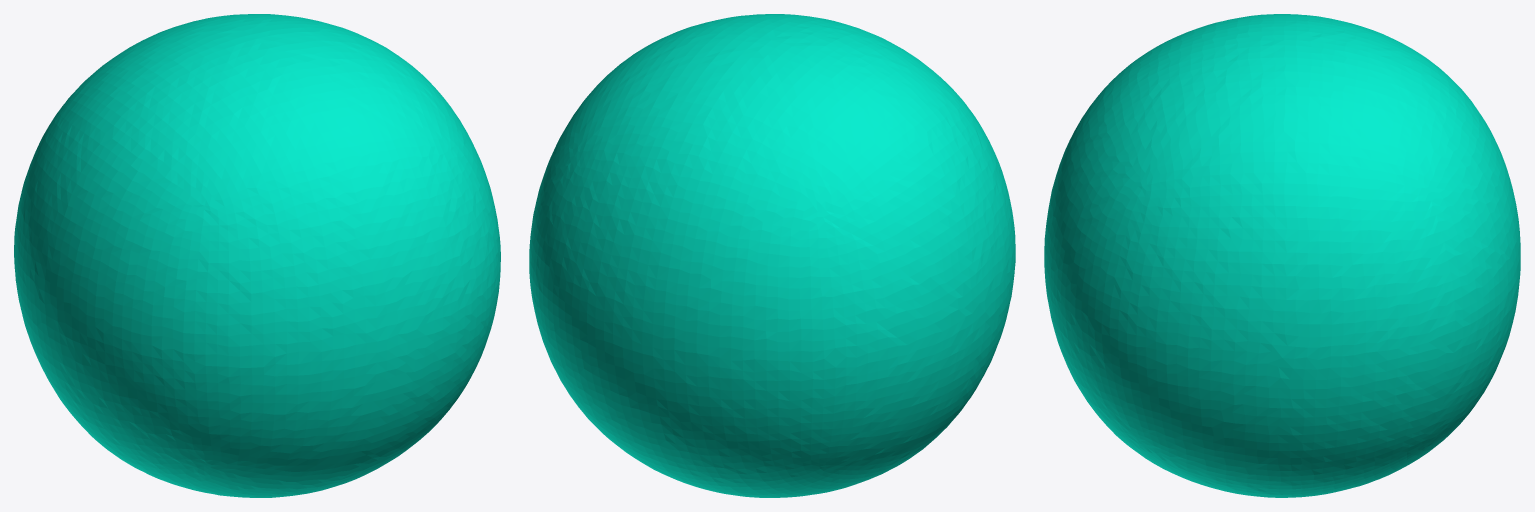
The model's file is Sea10.fbx.
The picture shows the model from 3 angles, left to right: view 1: azimuth 30°, elevation 25°; view 2: azimuth 150°, elevation 25°; view 3: azimuth 270°, elevation 25°; orthographic projection.
Parts seen in each view (by area): view 1: pCube1; view 2: pCube1; view 3: pCube1.
Part boxes in pixels (x1,y1,x2,y2): pCube1: (14,14,500,497); pCube1: (529,14,1015,497); pCube1: (1044,14,1520,497).
Size of the model in its own units: 40.29 by 40.27 by 40.27.
